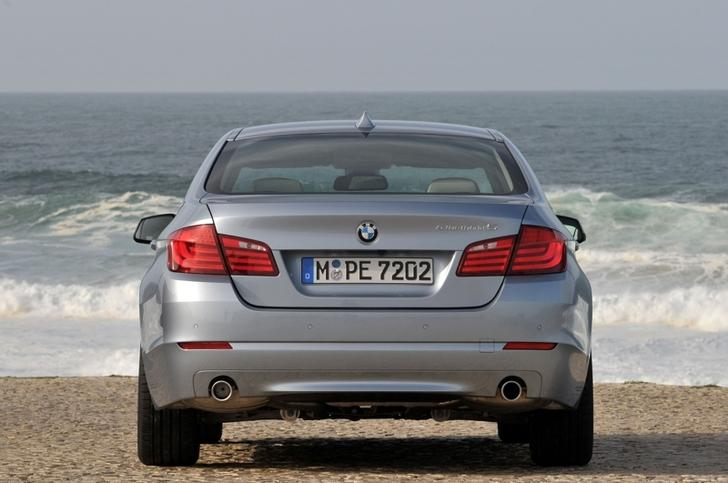Car: (103, 98, 628, 483)
